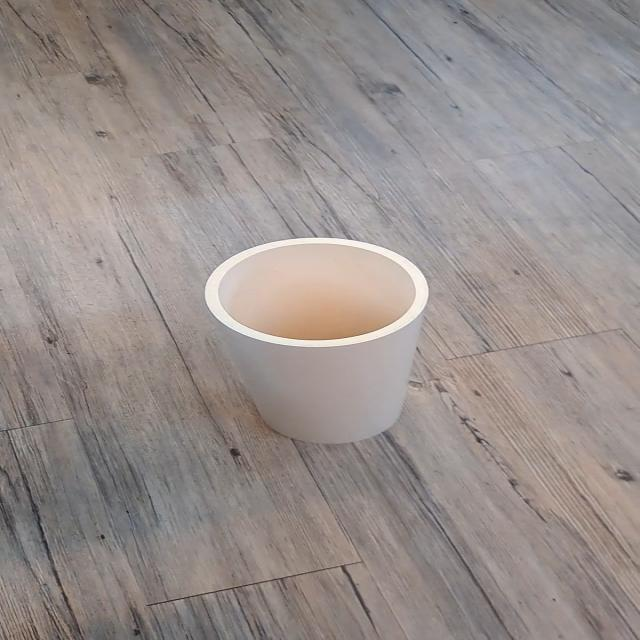CORAL: (181, 228, 466, 464)
